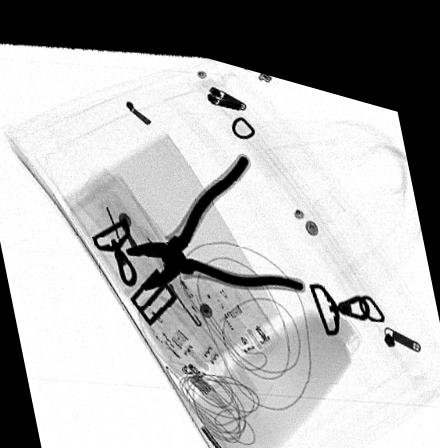Pliers: (122, 138, 304, 281)
